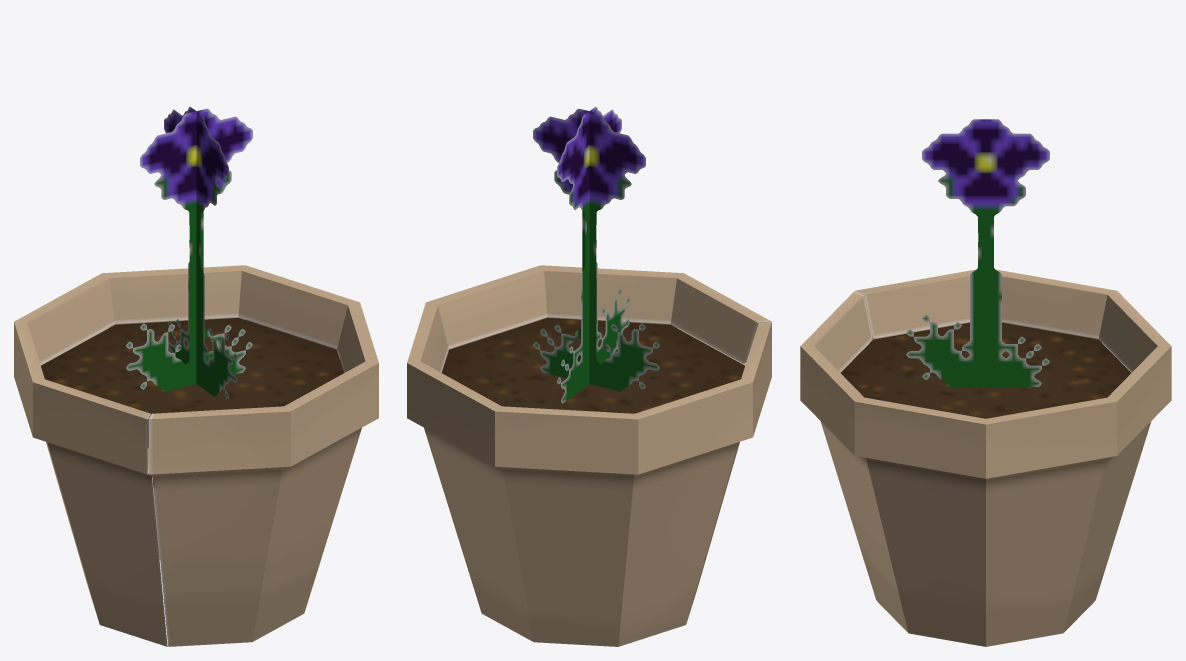
The model's file is pot_violet.fbx.
3 renders of one model, left to right at view 1: azimuth 30°, elevation 25°; view 2: azimuth 150°, elevation 25°; view 3: azimuth 270°, elevation 25°, orthographic.
Visible parts, largest first — view 1: flowerpot; view 2: flowerpot; view 3: flowerpot.
Boxes of the visible parts, x1=… form: flowerpot: x1=14, y1=107, x2=378, y2=646; flowerpot: x1=407, y1=107, x2=771, y2=646; flowerpot: x1=800, y1=119, x2=1171, y2=646.
Size of the model in its own units: 27.2 by 41.58 by 27.2.
